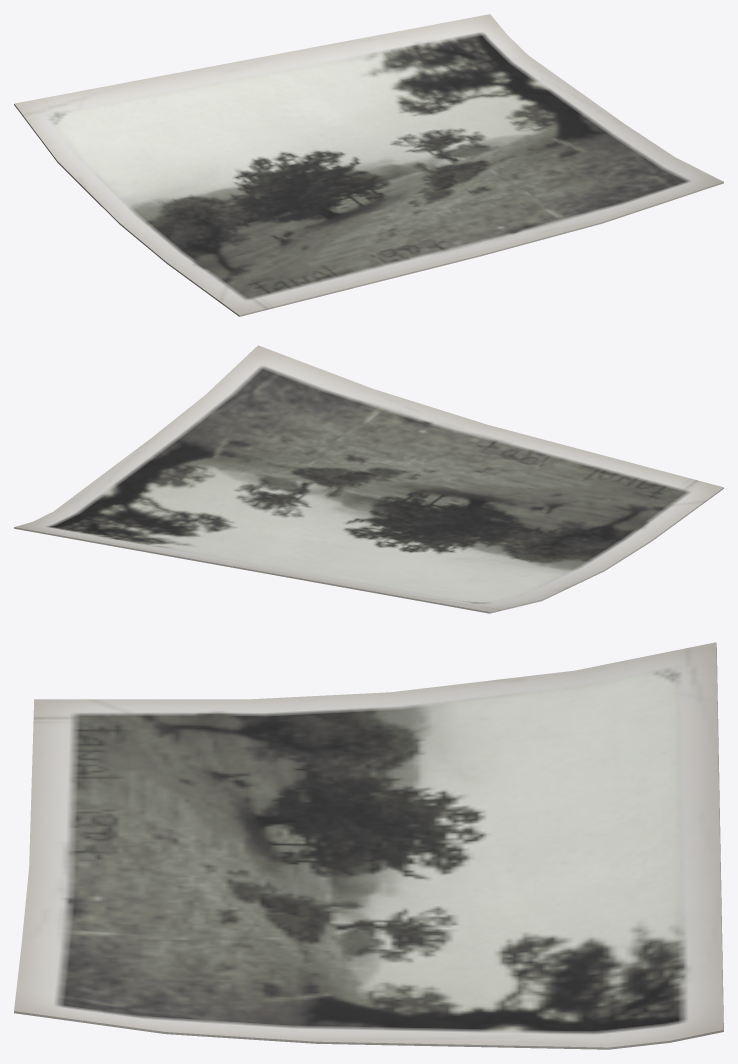
The model's file is Picture_12_Small.FBX.
The picture shows the model from 3 angles, top to bottom: view 1: azimuth 30°, elevation 25°; view 2: azimuth 150°, elevation 25°; view 3: azimuth 270°, elevation 25°; orthographic projection. The views are drawn at different scales.
Visible parts, largest first — view 1: Picture_12_Small; view 2: Picture_12_Small; view 3: Picture_12_Small.
Boxes of the visible parts, x1=… form: Picture_12_Small: x1=14, y1=14, x2=723, y2=316; Picture_12_Small: x1=14, y1=345, x2=723, y2=613; Picture_12_Small: x1=14, y1=642, x2=723, y2=1049.
Bounding box in the file's own units: 34.62 × 2.93 × 29.77.
